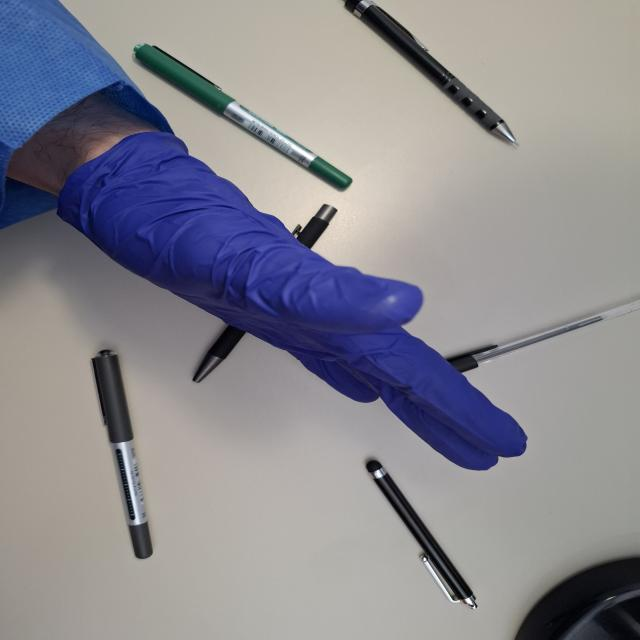glove_on: (47, 124, 531, 473)
